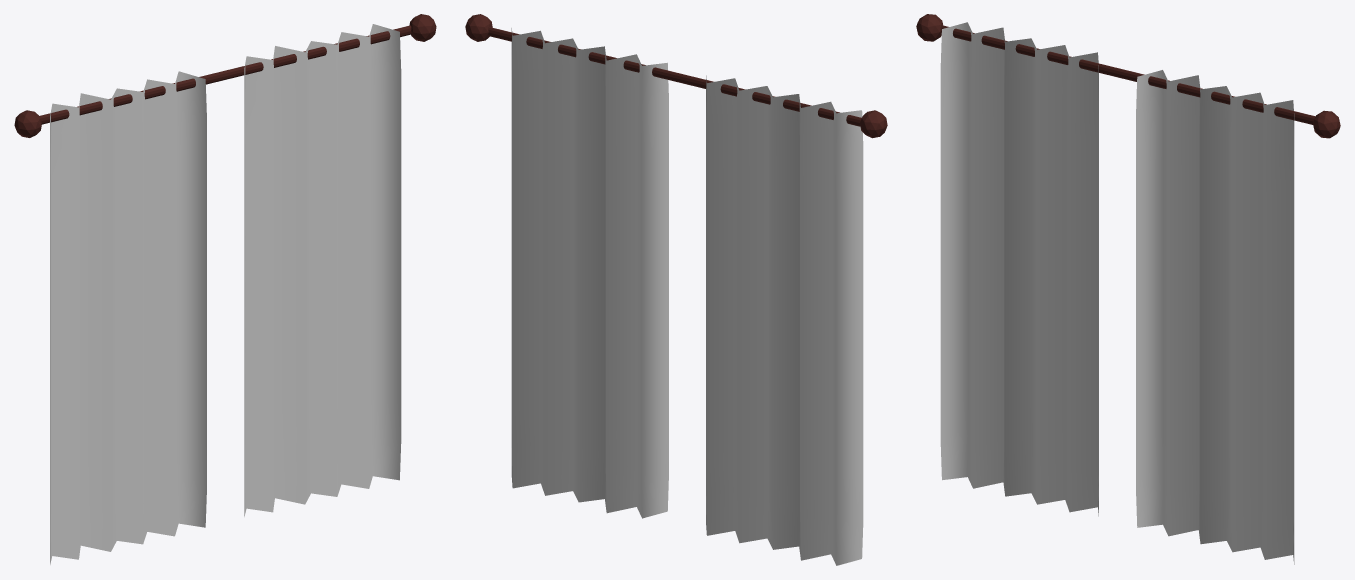
Rendered from curtain.fbx.
3 renders of one model, left to right at view 1: azimuth 30°, elevation 25°; view 2: azimuth 150°, elevation 25°; view 3: azimuth 330°, elevation 25°, orthographic.
Parts seen in each view (by area): view 1: Grid.002, Grid.001, Cylinder, Icosphere.001, Icosphere; view 2: Grid.002, Grid.001, Cylinder, Icosphere.001, Icosphere; view 3: Grid.002, Grid.001, Cylinder, Icosphere, Icosphere.001.
Part boxes in pixels (x1,y1,x2,y2): Grid.002: [244, 24, 401, 516]; Grid.001: [50, 71, 206, 564]; Cylinder: [39, 25, 411, 124]; Icosphere.001: [14, 110, 41, 137]; Icosphere: [409, 14, 436, 41]; Grid.002: [511, 28, 668, 518]; Grid.001: [706, 75, 863, 565]; Cylinder: [488, 27, 861, 126]; Icosphere.001: [860, 110, 887, 138]; Icosphere: [465, 14, 492, 41]; Grid.002: [1136, 70, 1294, 564]; Grid.001: [940, 22, 1098, 516]; Cylinder: [941, 25, 1315, 124]; Icosphere: [1313, 110, 1340, 138]; Icosphere.001: [916, 14, 942, 41].
Size of the model in its own units: 654 by 684 by 49.02.
